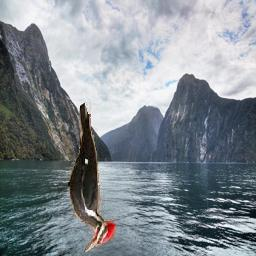Woodpecker: (69, 102, 118, 254)
